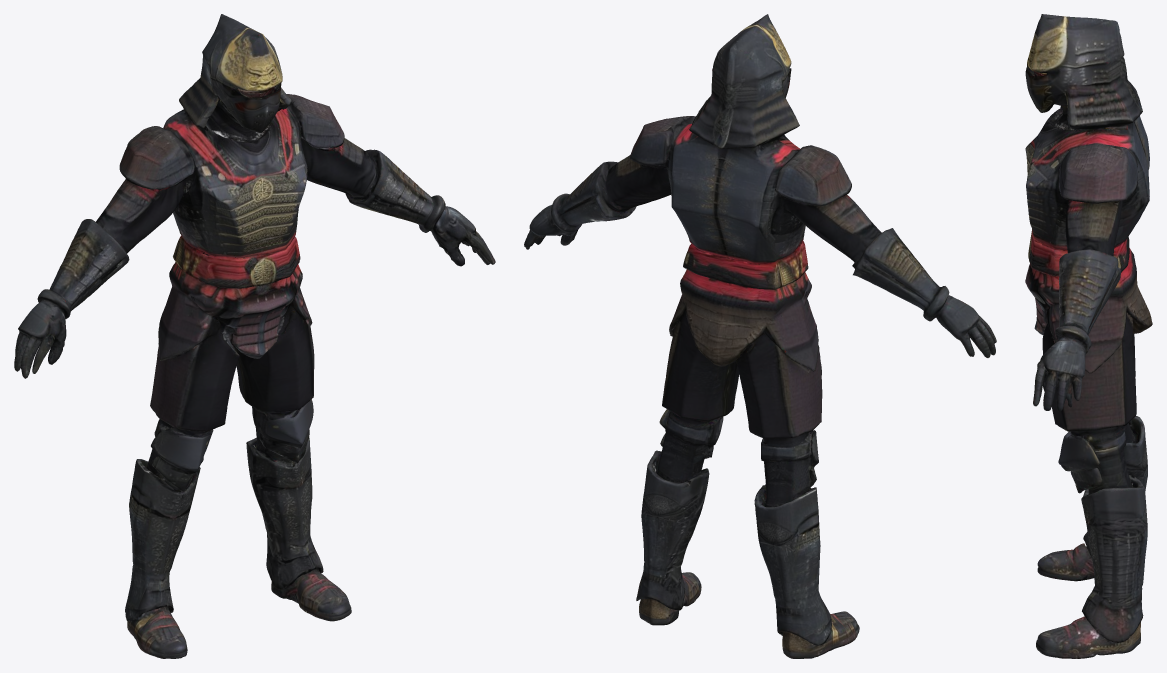
The model's file is samurai.glb.
The picture shows the model from 3 angles, left to right: view 1: azimuth 30°, elevation 25°; view 2: azimuth 150°, elevation 25°; view 3: azimuth 270°, elevation 25°; orthographic projection.
Size of the model in its own units: 1.63 by 1.99 by 0.3861.
1 material, 1 textured.
